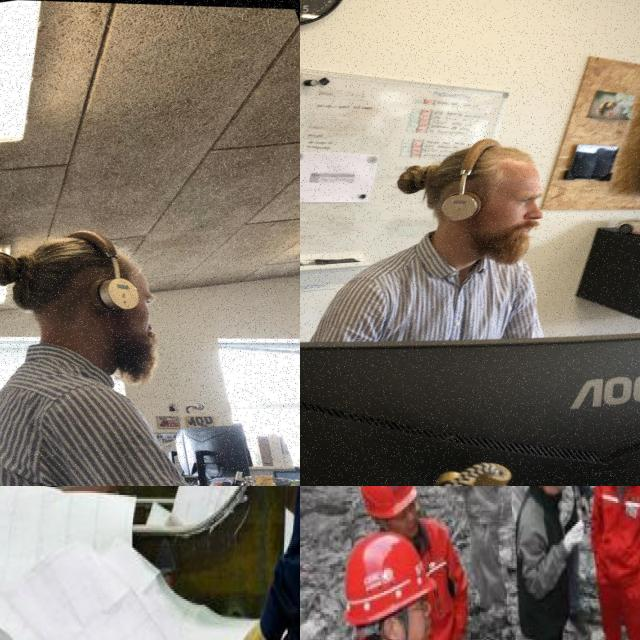Ear-protection: (0, 215, 183, 402), (416, 138, 566, 276)
No_Ear-Protection: (385, 612, 403, 640)
No_Glasses: (404, 498, 420, 512)
face_nomask: (408, 609, 430, 640), (400, 511, 420, 540)
hand_glove: (562, 521, 584, 554)
head_helmet: (345, 532, 435, 627), (359, 486, 417, 519)
